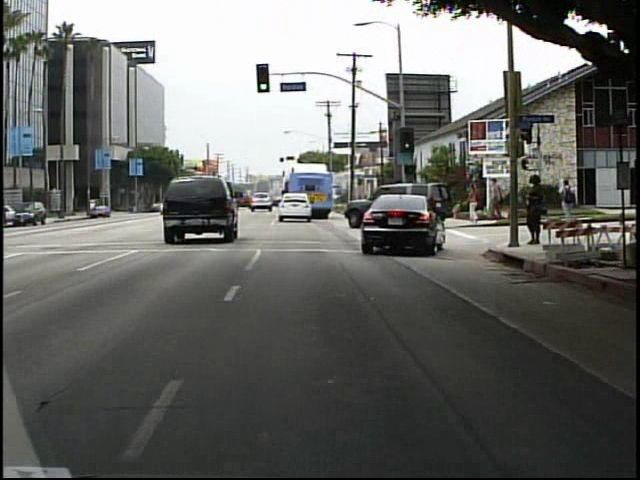person: (521, 171, 546, 252), (463, 179, 487, 228), (556, 178, 579, 221), (487, 177, 505, 223)
